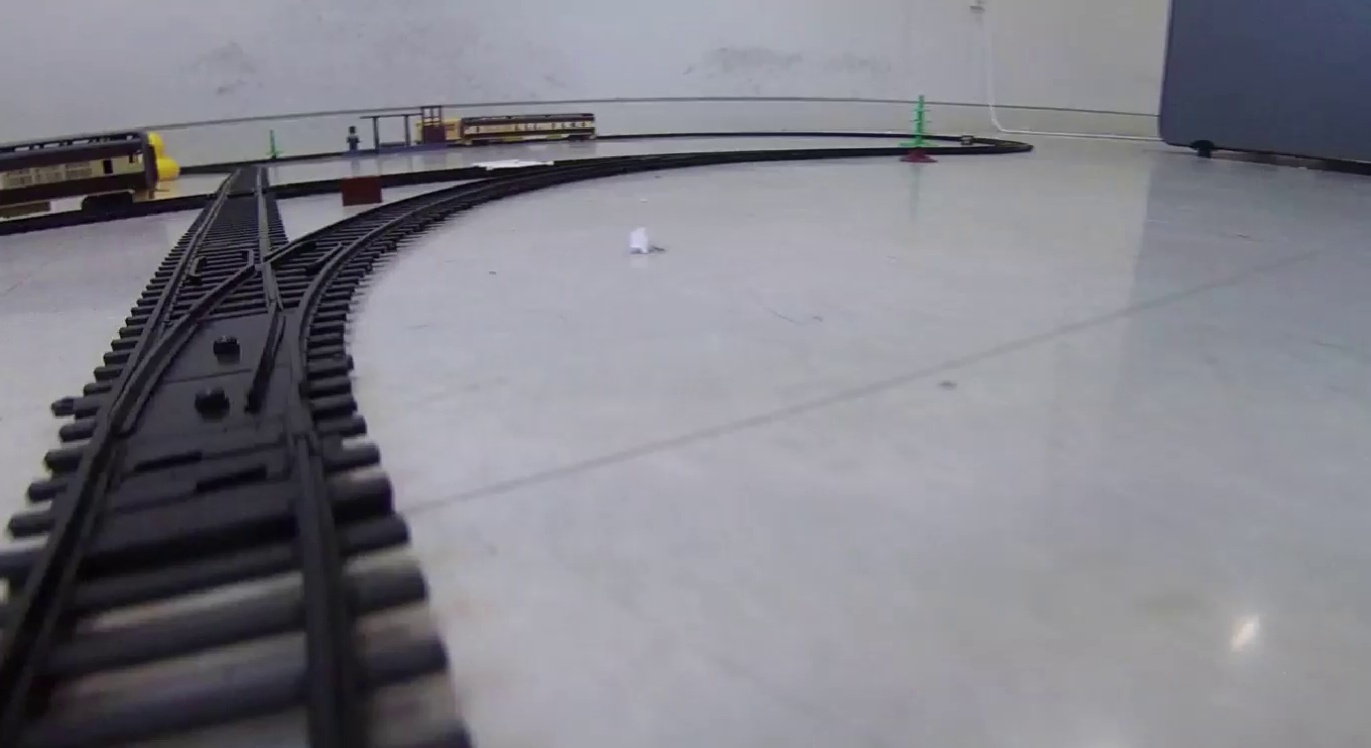box: (342, 179, 383, 202)
tree: (901, 96, 938, 161)
